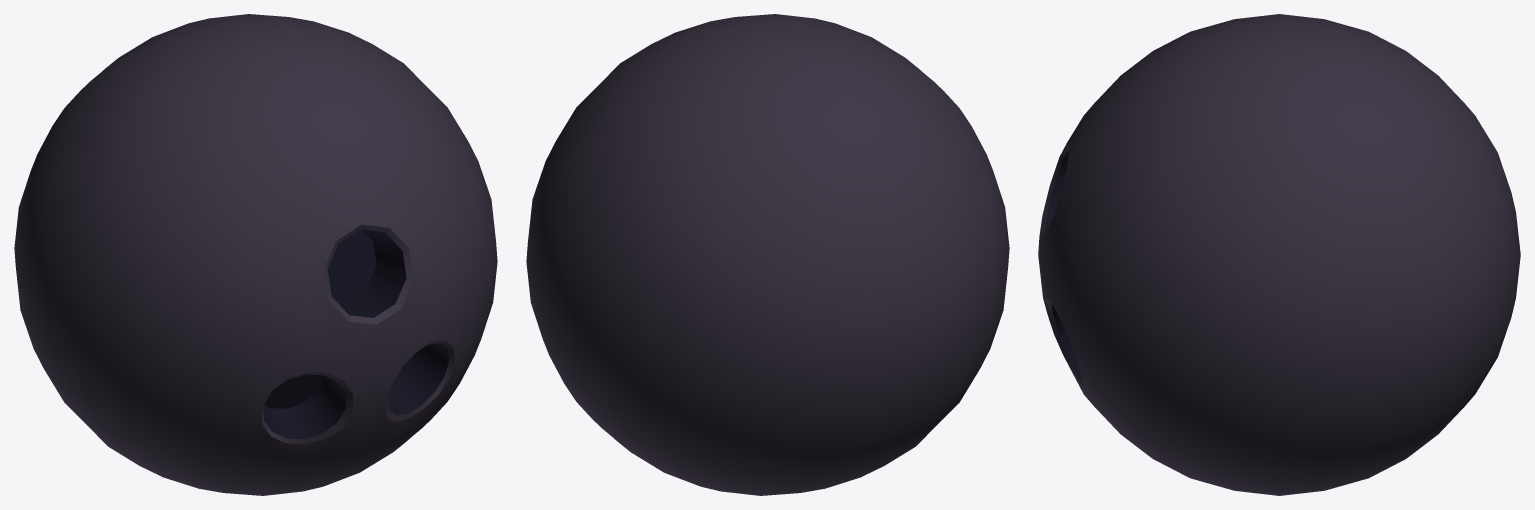
File: ball.glb
3 renders of one model, left to right at view 1: azimuth 30°, elevation 25°; view 2: azimuth 150°, elevation 25°; view 3: azimuth 270°, elevation 25°, orthographic.
Visible parts, largest first — view 1: Bowling_Ball; view 2: Bowling_Ball; view 3: Bowling_Ball.
Boxes of the visible parts, x1,y1,x2,y2 form: Bowling_Ball: (14,14,497,495); Bowling_Ball: (526,14,1009,495); Bowling_Ball: (1038,14,1520,495).
Size of the model in its own units: 1.4 by 1.4 by 1.4.
Materials: 1 (1 with a texture image).
